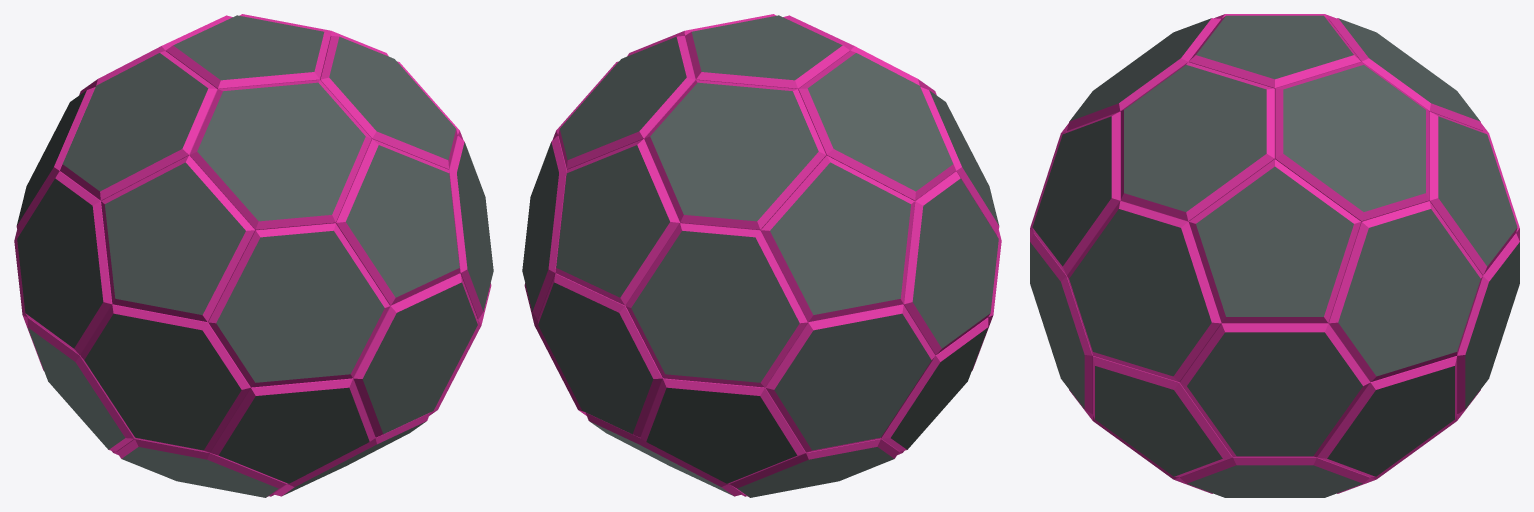
File: ball.fbx
3 renders of one model, left to right at view 1: azimuth 30°, elevation 25°; view 2: azimuth 150°, elevation 25°; view 3: azimuth 270°, elevation 25°, orthographic. The views are drawn at different scales.
Parts seen in each view (by area): view 1: IcoBall; view 2: IcoBall; view 3: IcoBall.
Part boxes in pixels (x1,y1,x2,y2): IcoBall: (14, 14, 493, 497); IcoBall: (522, 14, 1001, 497); IcoBall: (1030, 14, 1519, 497).
Bounding box in the file's own units: 137 × 132 × 139.
